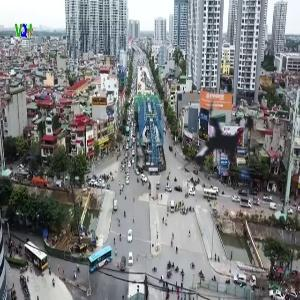drone: (143, 66, 293, 216)
